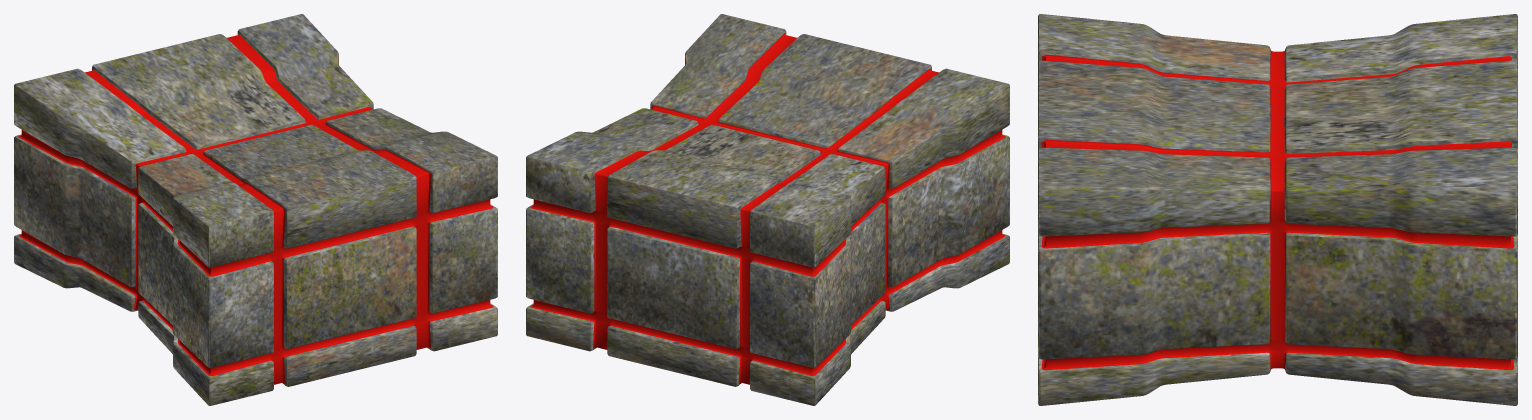
File: level2push.fbx
3 renders of one model, left to right at view 1: azimuth 30°, elevation 25°; view 2: azimuth 150°, elevation 25°; view 3: azimuth 270°, elevation 25°, orthographic. The views are drawn at different scales.
Visible parts, largest first — view 1: Cube.050; view 2: Cube.050; view 3: Cube.050.
Boxes of the visible parts, left/top/right/bottom form: Cube.050: left=14, top=14, right=497, bottom=405; Cube.050: left=526, top=14, right=1009, bottom=405; Cube.050: left=1038, top=14, right=1517, bottom=405.
Size of the model in its own units: 837 by 497 by 980.
